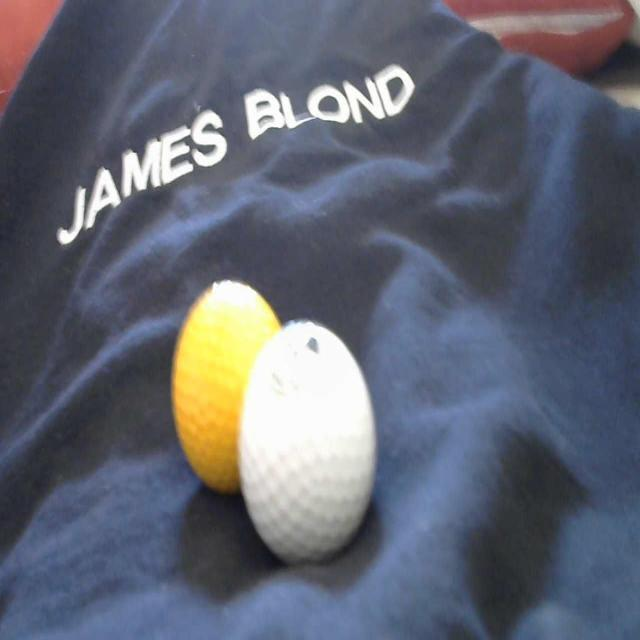golfball: (245, 316, 382, 568), (168, 271, 284, 492)
